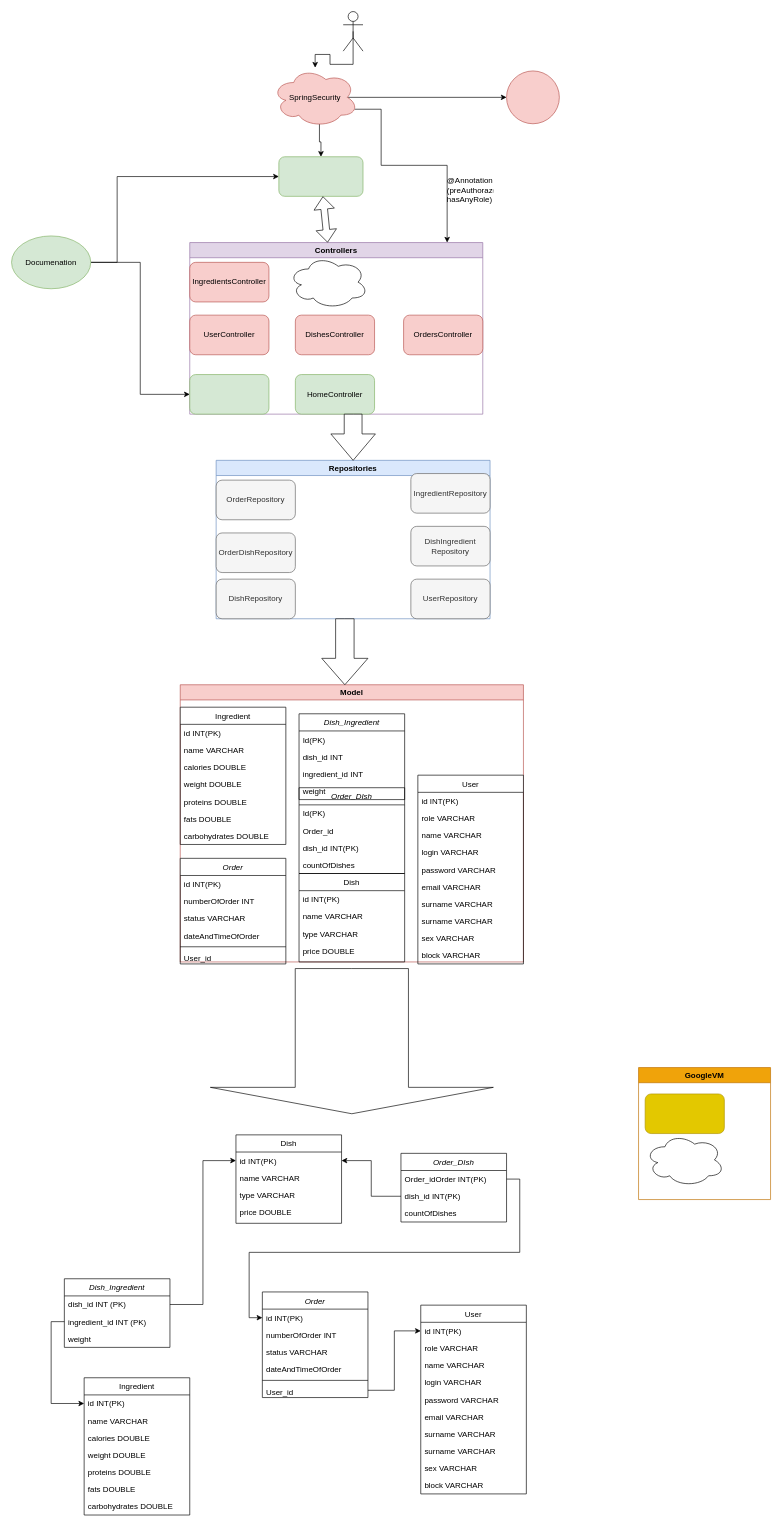
Image size: 782x1529. Some labels were removed from this diagram. Each missing label, with the centre of its shape:
Actor: point (353, 31)
Documentation Controller: point (229, 394)
Food4U: point (684, 1113)
MyErrorController: point (328, 282)
Security Configuration: point (532, 97)
ubuntu: point (684, 1159)
View(Html pages): point (320, 176)
